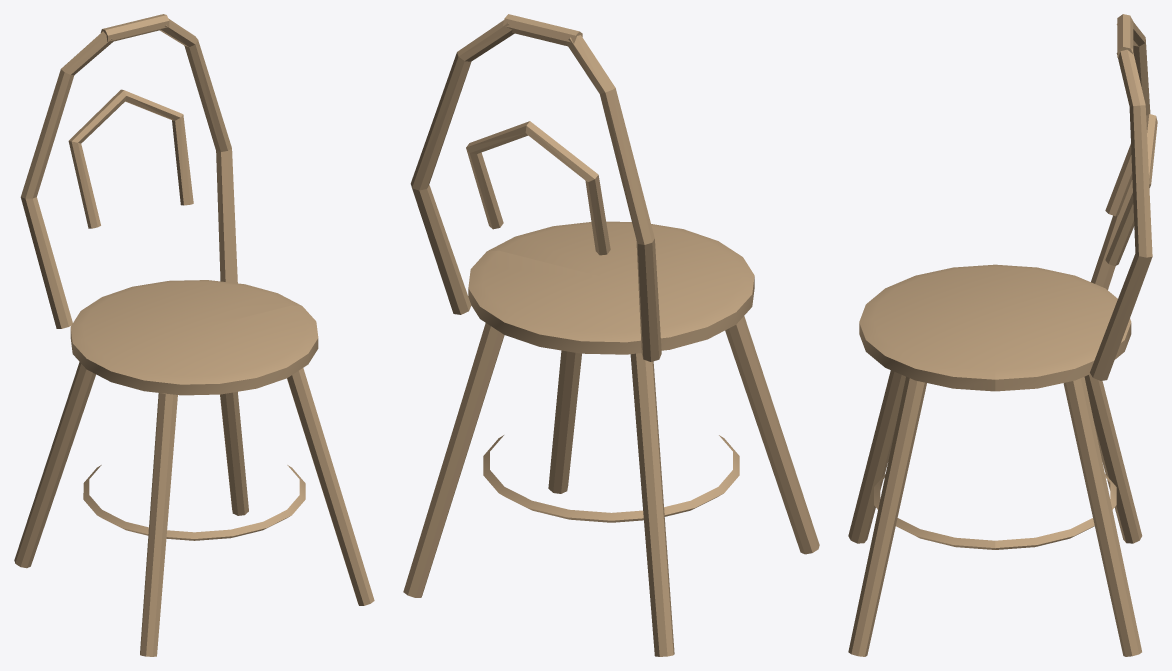
Rendered from bakery-and-cafe-cafe-chair-bentwood-91af8547__22207.glb.
The picture shows the model from 3 angles, left to right: view 1: azimuth 30°, elevation 25°; view 2: azimuth 150°, elevation 25°; view 3: azimuth 270°, elevation 25°; orthographic projection. The views are drawn at different scales.
Parts seen in each view (by area): view 1: cafe-chair-bentwood; view 2: cafe-chair-bentwood; view 3: cafe-chair-bentwood.
Part boxes in pixels (left/top/right/bottom): cafe-chair-bentwood: left=14, top=14, right=374, bottom=656; cafe-chair-bentwood: left=403, top=14, right=819, bottom=656; cafe-chair-bentwood: left=848, top=14, right=1157, bottom=656.
Size of the model in its own units: 0.4536 by 0.967 by 0.4773.
